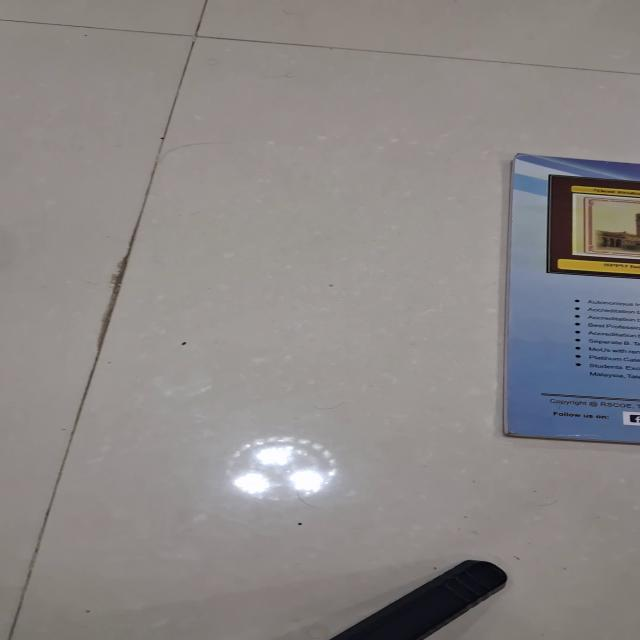paper: (501, 152, 639, 444)
